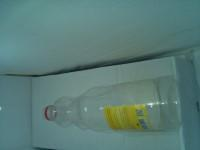bottle: (44, 74, 180, 136)
